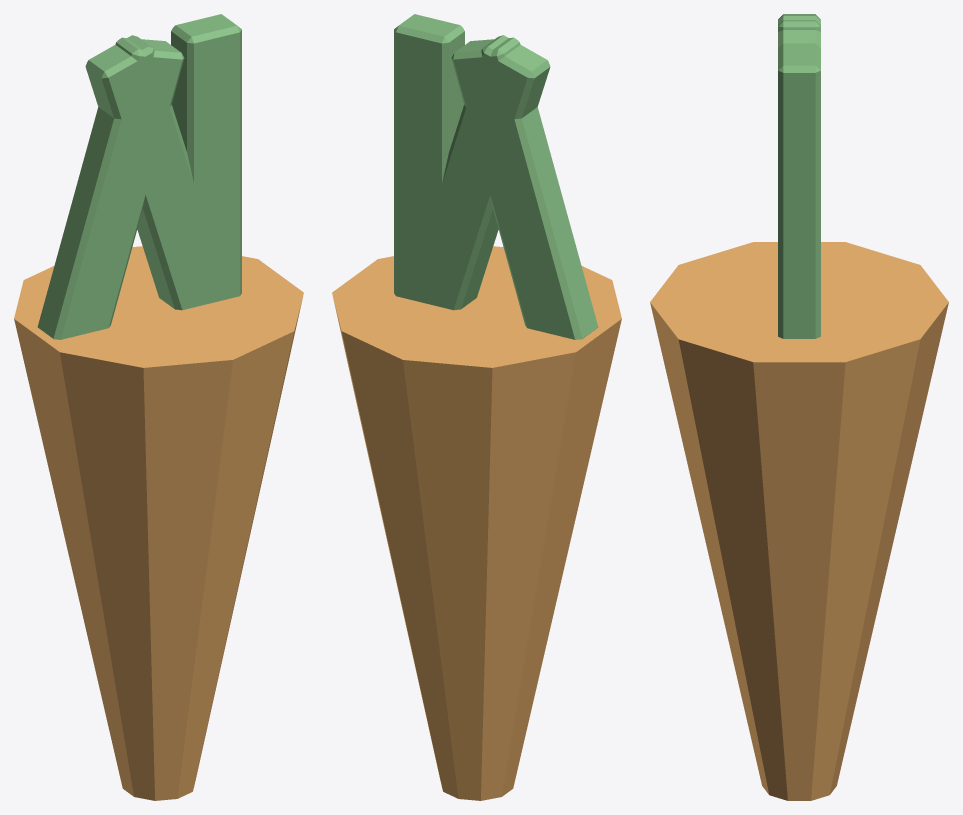
The model's file is harvest_carrot.glb.
The picture shows the model from 3 angles, left to right: view 1: azimuth 30°, elevation 25°; view 2: azimuth 150°, elevation 25°; view 3: azimuth 270°, elevation 25°; orthographic projection.
Visible parts, largest first — view 1: harvest_carrot; view 2: harvest_carrot; view 3: harvest_carrot.
Part boxes in pixels (left/top/right/bottom): harvest_carrot: left=14, top=14, right=303, bottom=800; harvest_carrot: left=332, top=14, right=621, bottom=800; harvest_carrot: left=650, top=14, right=948, bottom=800.
Bounding box in the file's own units: 0.2663 × 0.7807 × 0.28.
